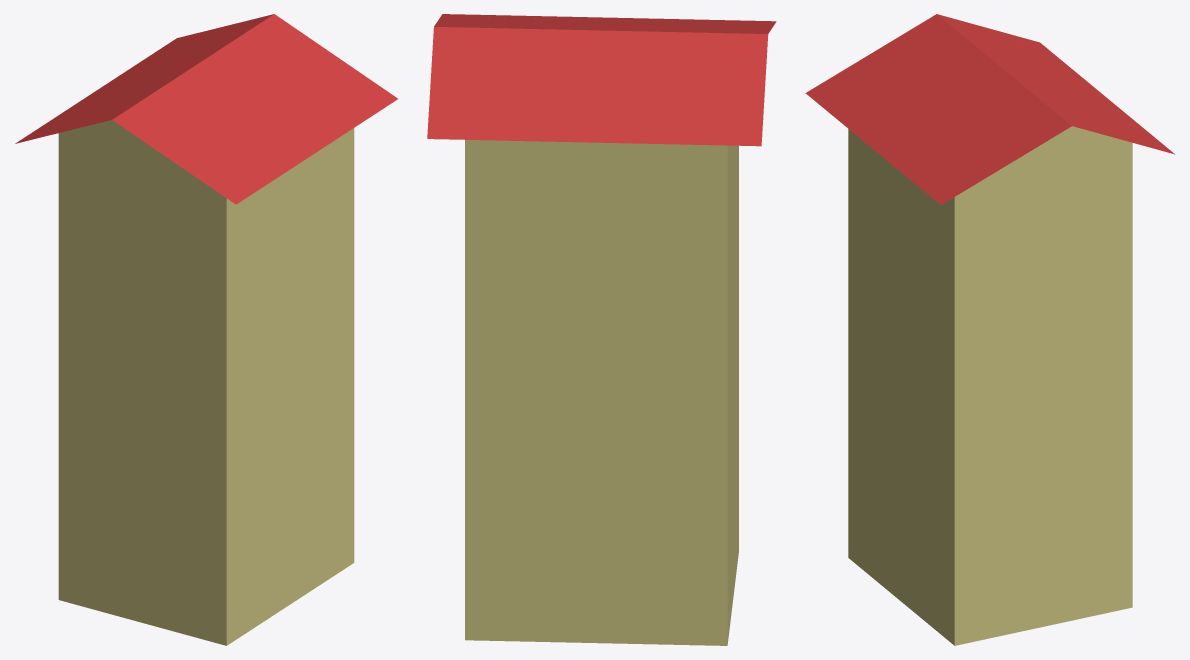
3 views of the same model, side by side, from view 1: azimuth 30°, elevation 25°; view 2: azimuth 150°, elevation 25°; view 3: azimuth 270°, elevation 25° (orthographic). The views are drawn at different scales.
Visible parts, largest first — view 1: group_5, group_3, group_4; view 2: group_5, group_3, group_4; view 3: group_5, group_3, group_4.
Boxes of the visible parts, left/top/right/bottom form: group_5: left=58, top=120, right=354, bottom=645; group_3: left=17, top=14, right=353, bottom=174; group_4: left=15, top=14, right=397, bottom=204; group_5: left=465, top=17, right=738, bottom=645; group_3: left=427, top=17, right=767, bottom=146; group_4: left=434, top=14, right=776, bottom=146; group_5: left=848, top=126, right=1132, bottom=645; group_3: left=849, top=14, right=1174, bottom=175; group_4: left=805, top=14, right=1087, bottom=204.
Bounding box in the file's own units: 6.02 × 5.78 × 8.78.
